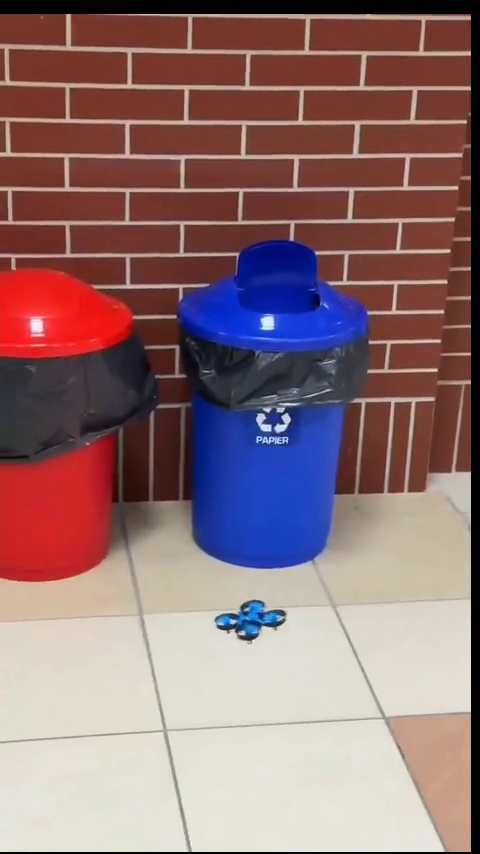drone: (213, 600, 289, 642)
